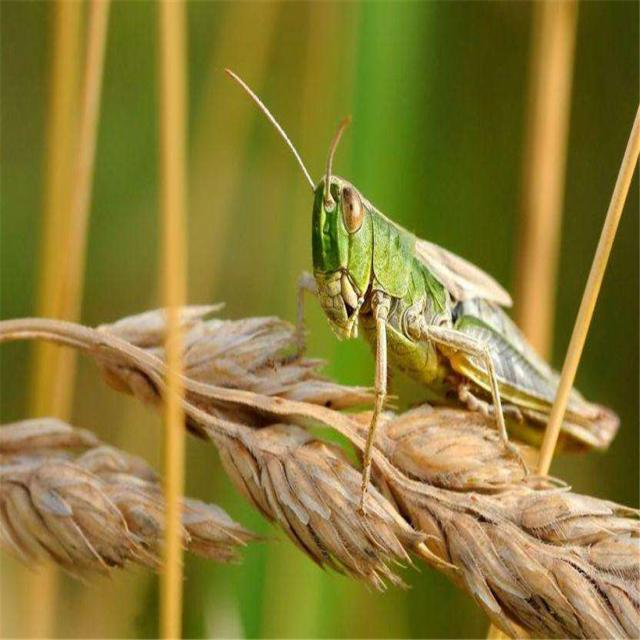ZhaMeng: (251, 84, 629, 462)
